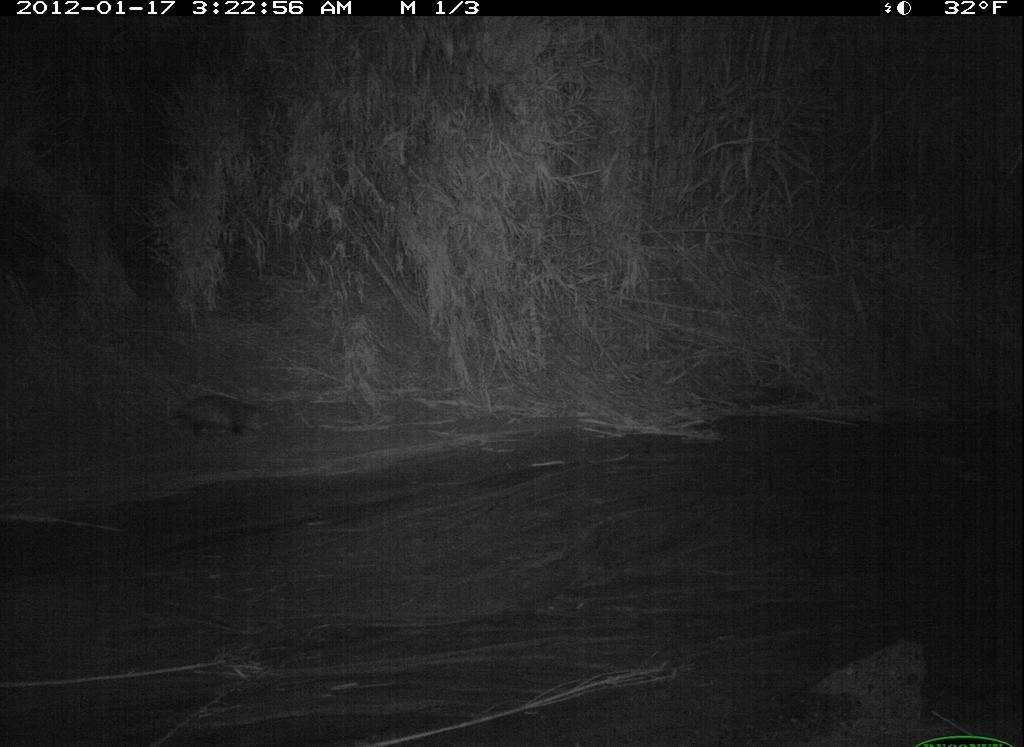opossum: (166, 372, 282, 446)
